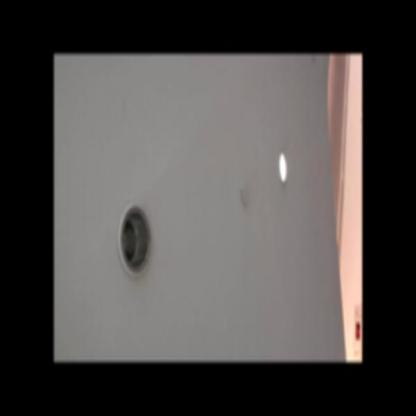light_off: (116, 186, 156, 286)
